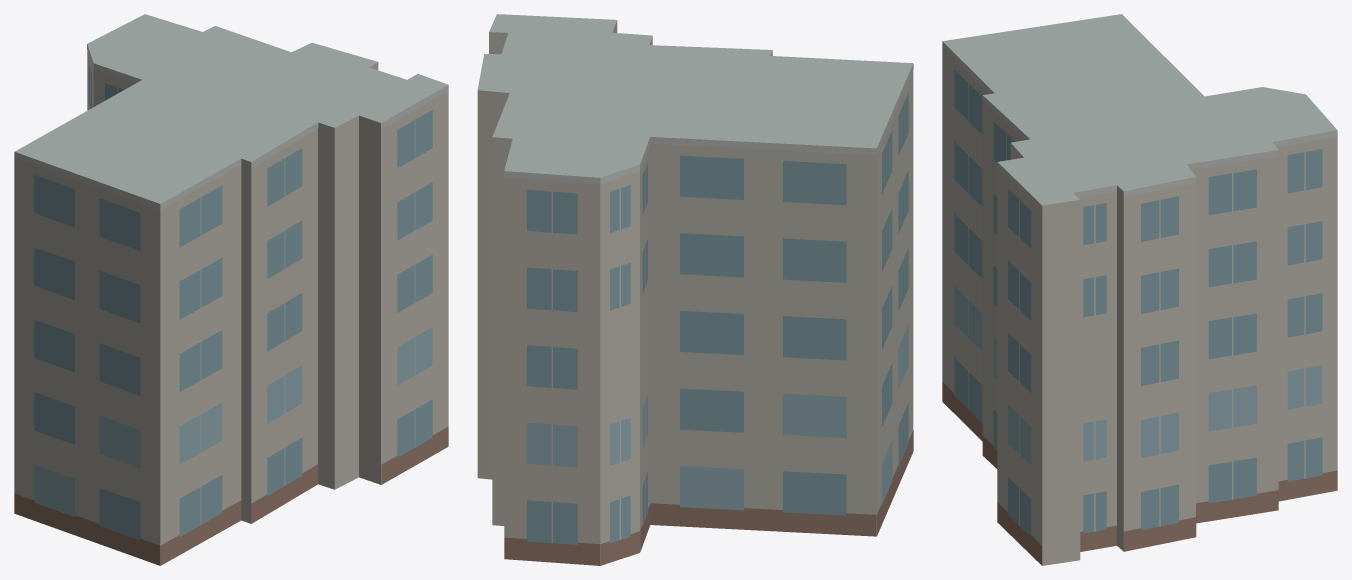
The model's file is survey-upis-32969204.glb.
The picture shows the model from 3 angles, left to right: view 1: azimuth 30°, elevation 25°; view 2: azimuth 150°, elevation 25°; view 3: azimuth 270°, elevation 25°; orthographic projection. The views are drawn at different scales.
Visible parts, largest first — view 1: survey-upis-32969204.tmp; view 2: survey-upis-32969204.tmp; view 3: survey-upis-32969204.tmp.
Boxes of the visible parts, x1,y1,x2,y2 form: survey-upis-32969204.tmp: (14,14,448,565); survey-upis-32969204.tmp: (477,14,913,565); survey-upis-32969204.tmp: (942,14,1337,565).
Size of the model in its own units: 16.31 by 14.3 by 14.23.
